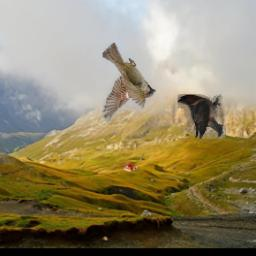Sparrow: (101, 44, 156, 122)
Swallow: (178, 94, 226, 139)
